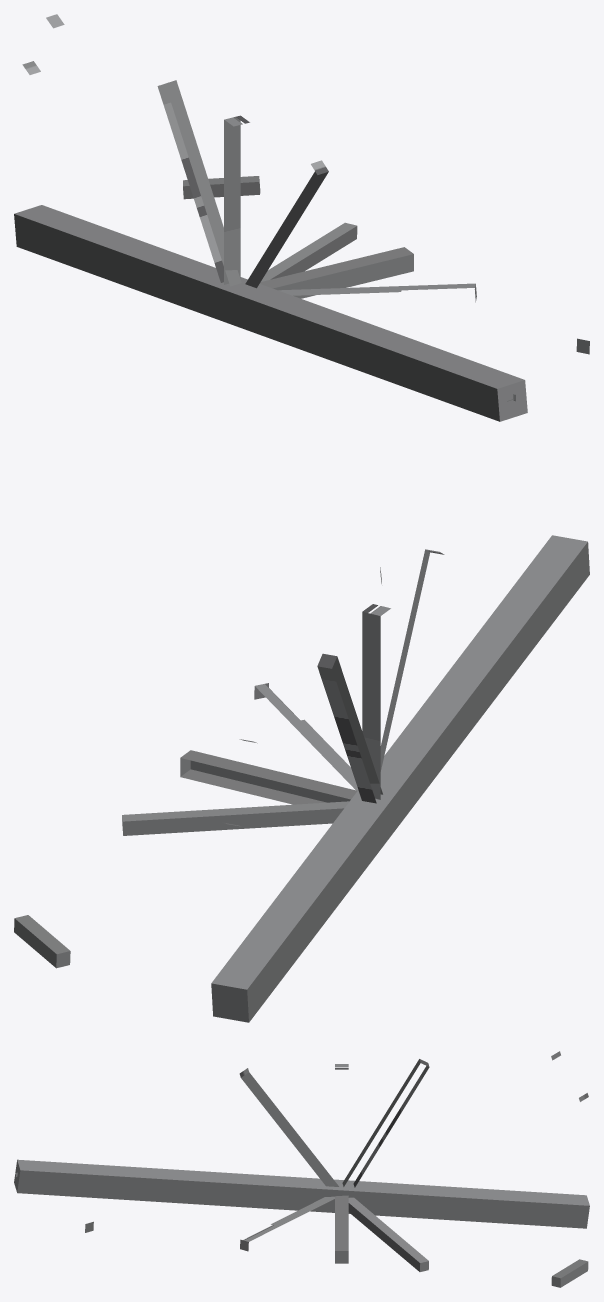
The picture shows the model from 3 angles, top to bottom: view 1: azimuth 30°, elevation 25°; view 2: azimuth 150°, elevation 25°; view 3: azimuth 270°, elevation 25°; orthographic projection. The views are drawn at different scales.
Size of the model in its own units: 0.8283 by 0.8261 by 2.51.
